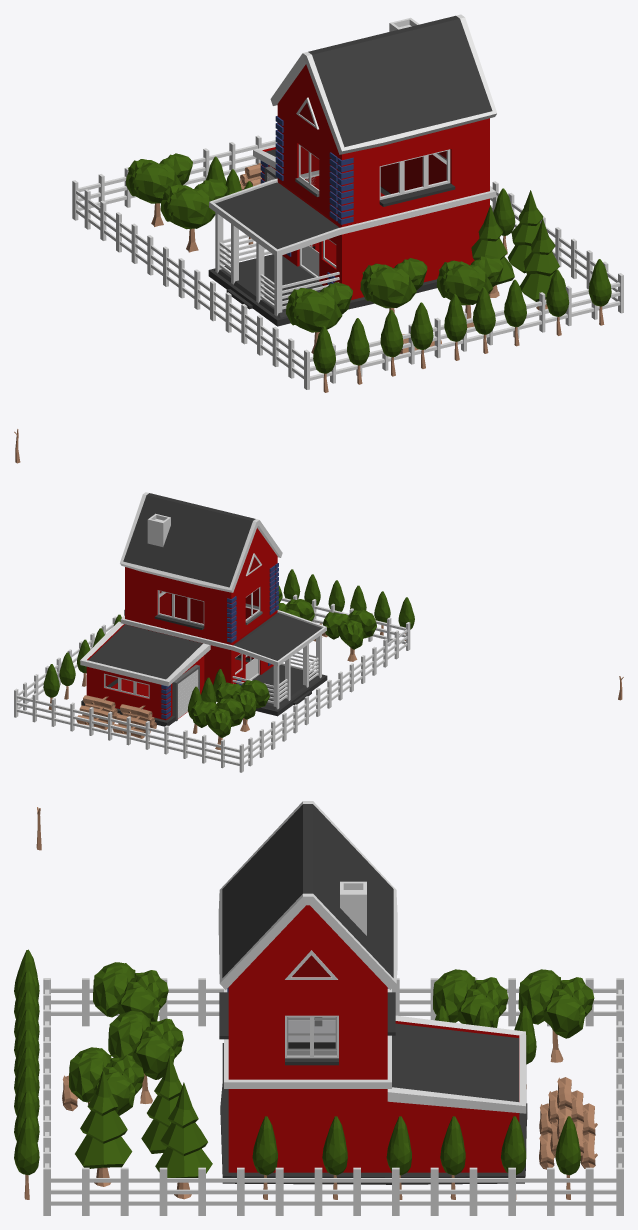
File: z.003_lev3.glb
3 renders of one model, top to bottom at view 1: azimuth 30°, elevation 25°; view 2: azimuth 150°, elevation 25°; view 3: azimuth 270°, elevation 25°, orthographic. The views are drawn at different scales.
Visible parts, largest first — view 1: z.003_lev3; view 2: z.003_lev3; view 3: z.003_lev3.
Boxes of the visible parts, x1=… form: z.003_lev3: x1=14, y1=14, x2=623, y2=463; z.003_lev3: x1=14, y1=492, x2=623, y2=772; z.003_lev3: x1=14, y1=801, x2=623, y2=1215.
Size of the model in its own units: 17.3 by 6.26 by 12.07.
Materials: 12 (1 with a texture image).
